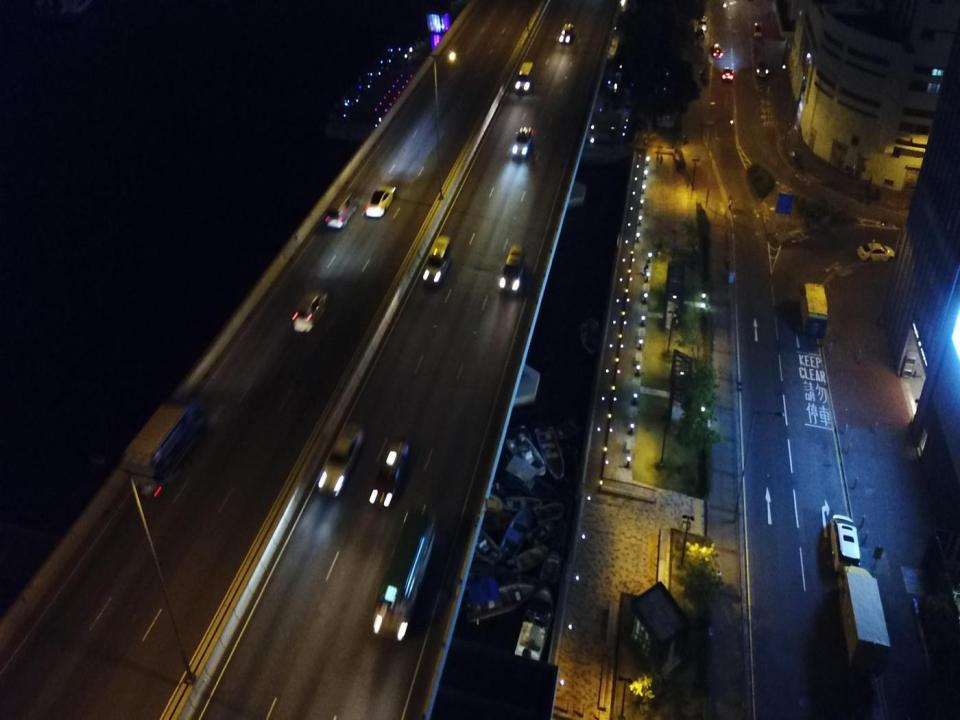bus: (373, 502, 439, 642)
car: (320, 421, 364, 498), (369, 438, 409, 510), (293, 290, 327, 332), (366, 186, 396, 218), (858, 242, 896, 262), (513, 125, 534, 158), (560, 22, 574, 45), (722, 67, 733, 82), (714, 43, 722, 59)
truck: (125, 398, 204, 498), (838, 567, 890, 676), (800, 282, 828, 338), (516, 62, 534, 94), (755, 48, 767, 77), (754, 16, 762, 38)
van: (830, 514, 860, 572), (499, 242, 526, 295), (423, 236, 451, 286), (326, 191, 357, 227)
